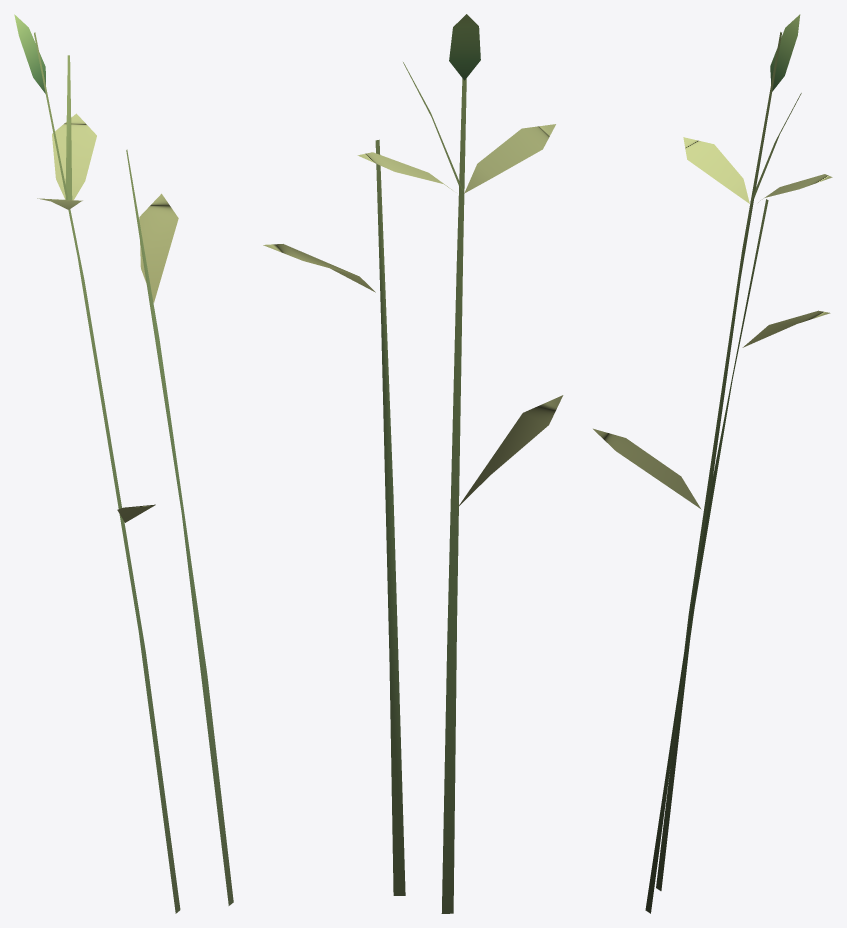
File: RagweedSprig_LOD2.glb
3 views of the same model, side by side, from view 1: azimuth 30°, elevation 25°; view 2: azimuth 150°, elevation 25°; view 3: azimuth 270°, elevation 25° (orthographic). The views are drawn at different scales.
Parts seen in each view (by area): view 1: RagweedSprig_LOD2; view 2: RagweedSprig_LOD2; view 3: RagweedSprig_LOD2.
Part boxes in pixels (left/top/right/bottom): RagweedSprig_LOD2: left=14, top=14, right=233, bottom=913; RagweedSprig_LOD2: left=263, top=14, right=563, bottom=913; RagweedSprig_LOD2: left=593, top=14, right=832, bottom=913.
Bounding box in the file's own units: 0.0745 × 0.3322 × 0.087.
